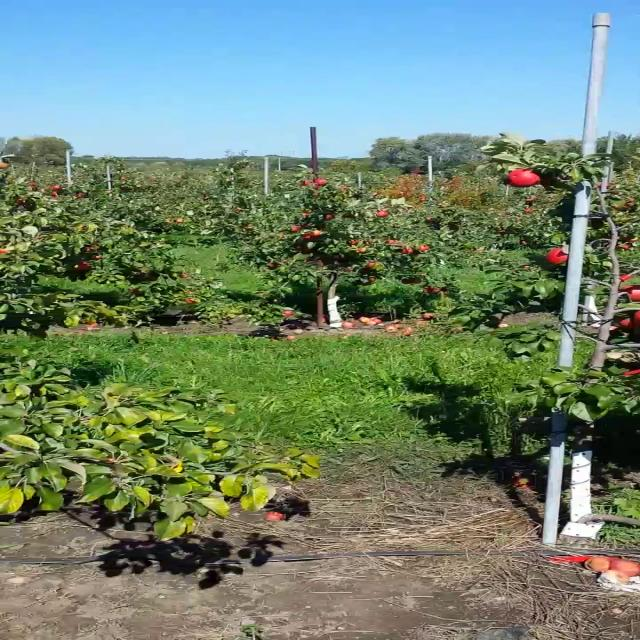apple: (507, 168, 541, 188), (546, 247, 570, 265), (617, 284, 639, 302), (612, 316, 634, 328), (620, 366, 639, 376), (633, 310, 639, 328)
